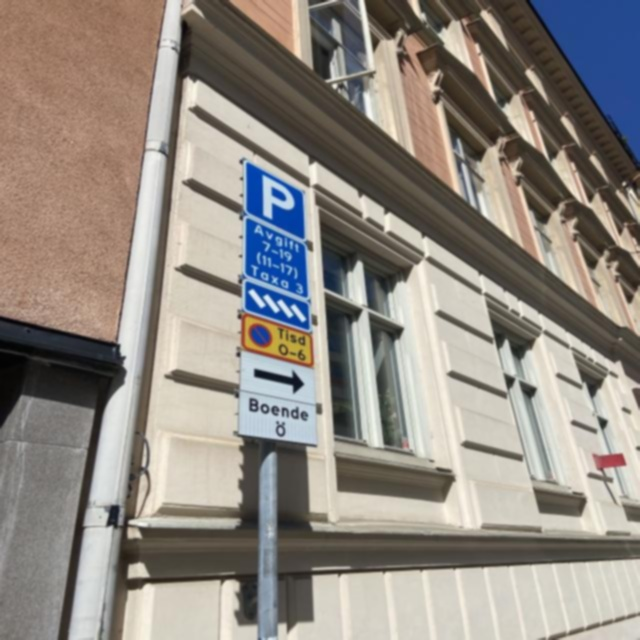P-skylt: (240, 155, 312, 243)
